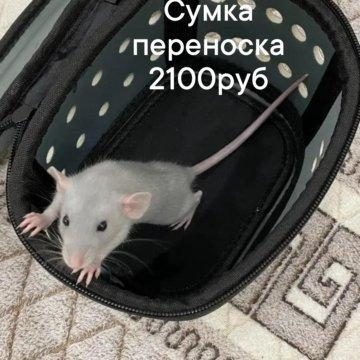rat: (18, 75, 308, 286)
